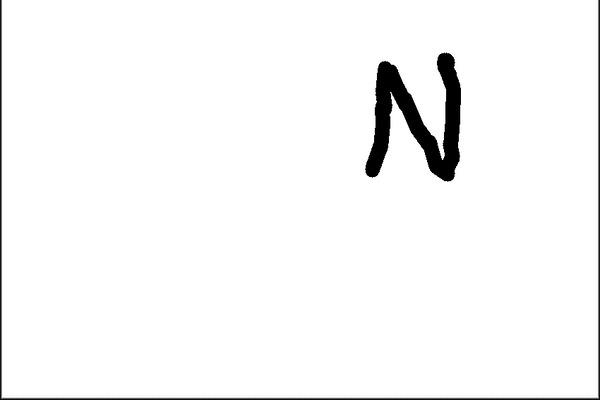N: (358, 48, 464, 184)
